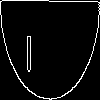I: (25, 24, 33, 73)
